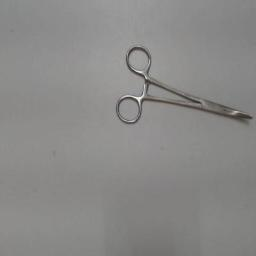Crile Artery Forceps: (114, 40, 254, 128)
